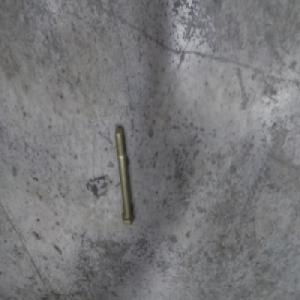Bolt: (116, 124, 136, 227)
